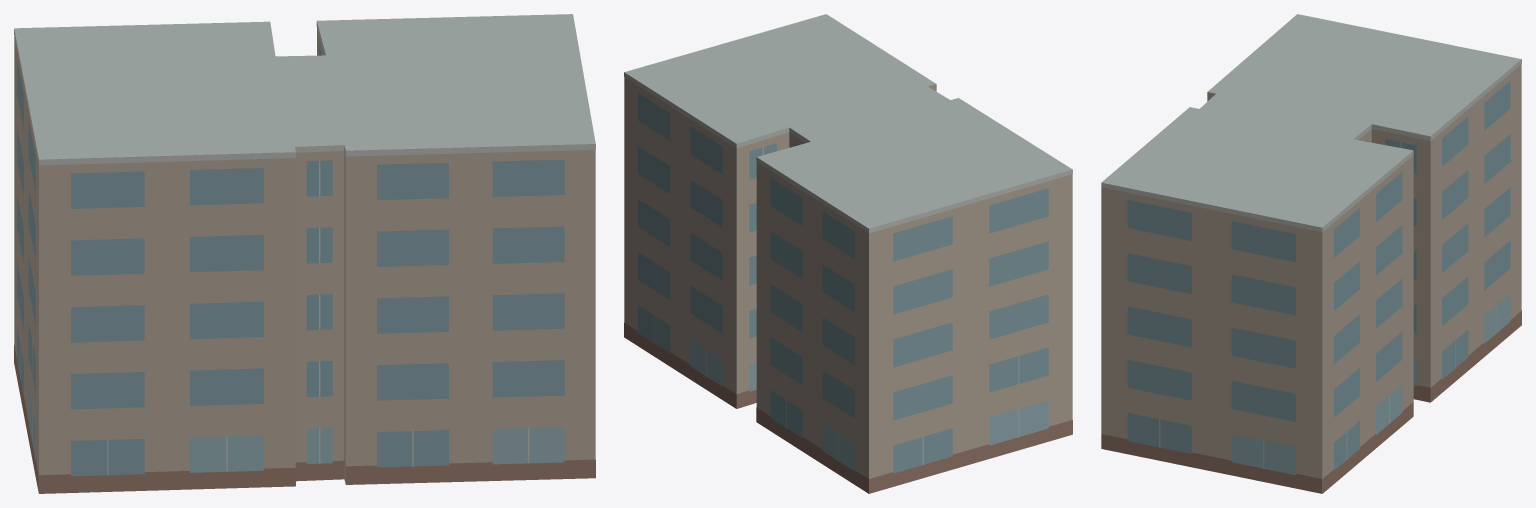
File: survey-upis-32980207.glb
3 views of the same model, side by side, from view 1: azimuth 30°, elevation 25°; view 2: azimuth 150°, elevation 25°; view 3: azimuth 270°, elevation 25° (orthographic). The views are drawn at different scales.
Parts seen in each view (by area): view 1: survey-upis-32980207.tmp; view 2: survey-upis-32980207.tmp; view 3: survey-upis-32980207.tmp.
Boxes of the visible parts, x1,y1,x2,y2 form: survey-upis-32980207.tmp: (14, 14, 595, 493); survey-upis-32980207.tmp: (624, 14, 1072, 493); survey-upis-32980207.tmp: (1101, 14, 1521, 493).
Size of the model in its own units: 23.94 by 13.9 by 19.91.
